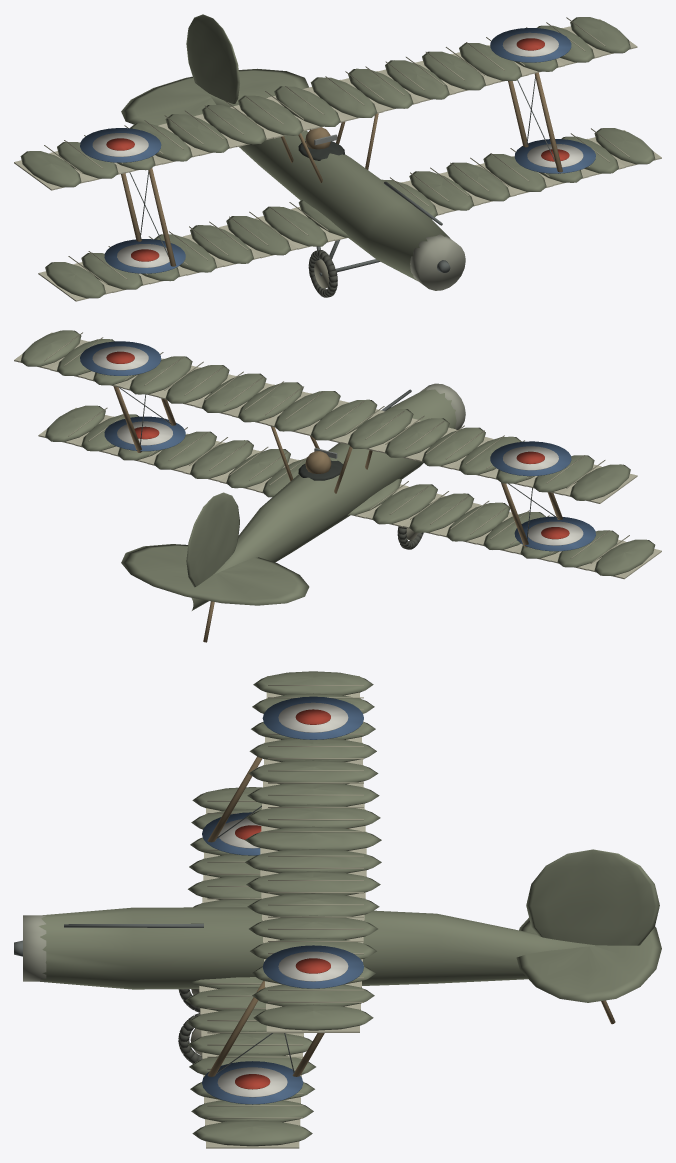
3 renders of one model, top to bottom at view 1: azimuth 30°, elevation 25°; view 2: azimuth 150°, elevation 25°; view 3: azimuth 270°, elevation 25°, orthographic. The views are drawn at different scales.
Visible parts, largest first — view 1: dh5; view 2: dh5; view 3: dh5.
Boxes of the visible parts, x1=… form: dh5: x1=14, y1=14, x2=661, y2=301; dh5: x1=14, y1=330, x2=661, y2=642; dh5: x1=14, y1=671, x2=661, y2=1148.
Size of the model in its own units: 8.32 by 2.16 by 6.39.
